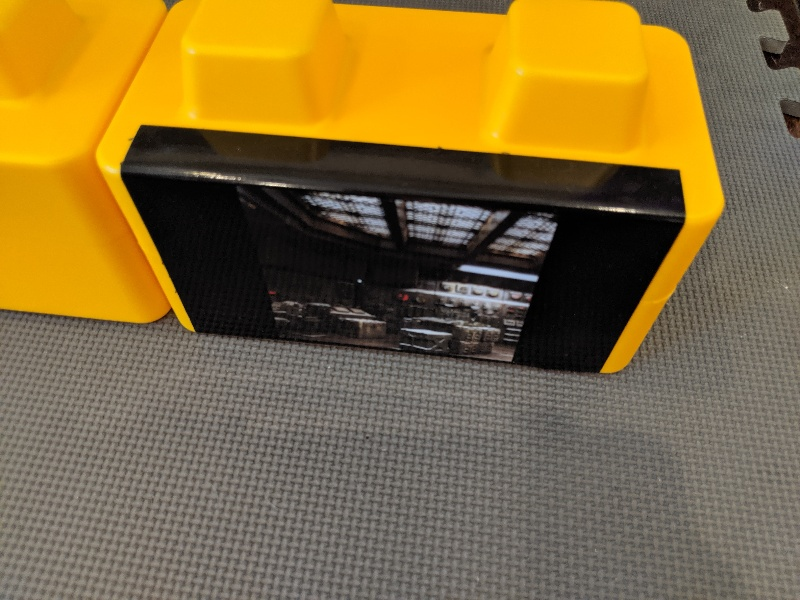Skystone: (106, 113, 690, 397)
